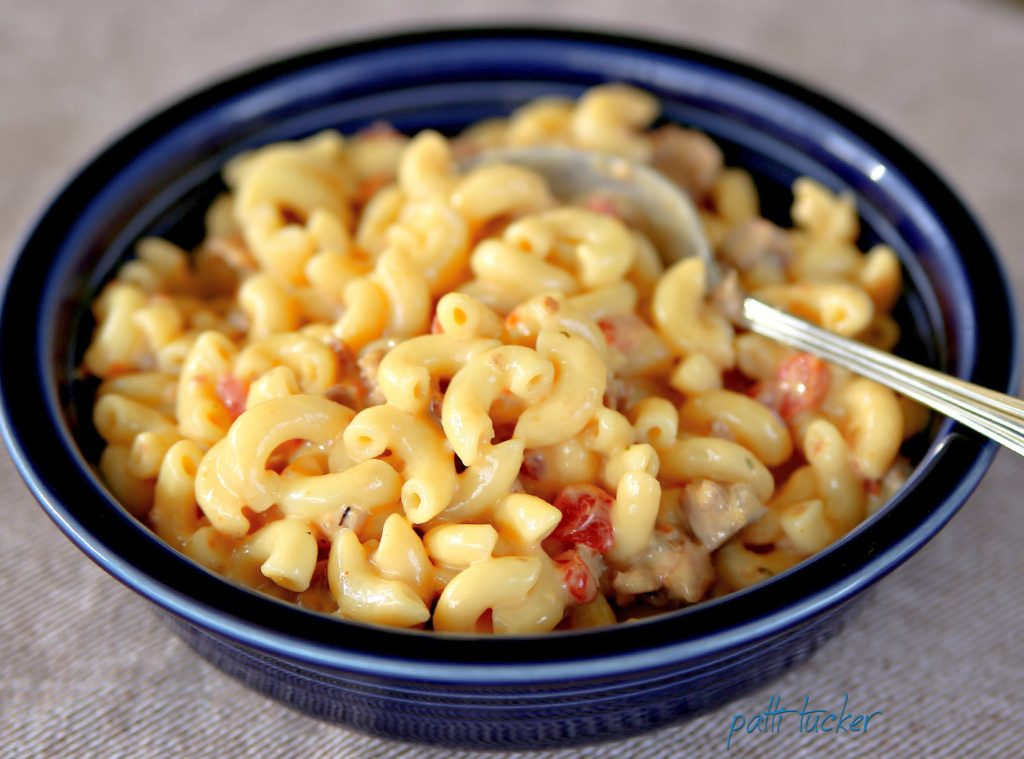bacon: (569, 481, 644, 606)
